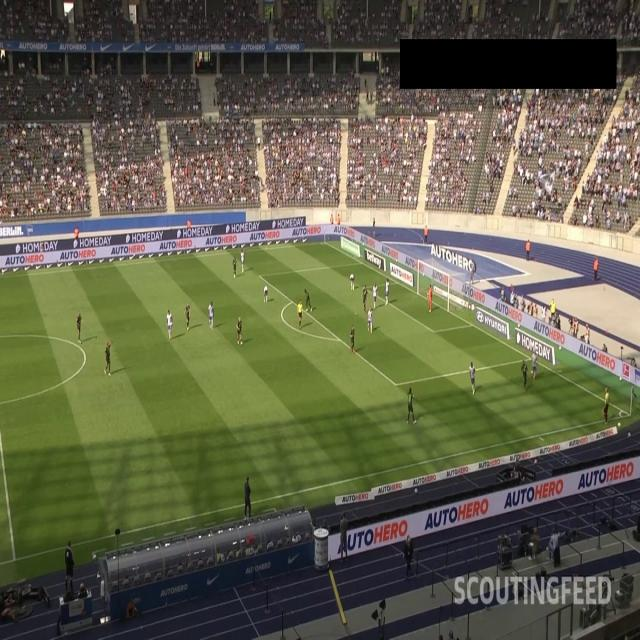player: (408, 387, 418, 423), (236, 311, 245, 345), (164, 311, 174, 339), (469, 360, 476, 396), (382, 274, 390, 305), (349, 326, 358, 353), (303, 286, 312, 311), (184, 302, 191, 332), (522, 357, 528, 390), (76, 311, 82, 343), (104, 343, 110, 375), (207, 301, 213, 329), (532, 353, 538, 381), (372, 281, 378, 307), (427, 282, 432, 311), (348, 272, 356, 290), (263, 282, 270, 302), (362, 285, 367, 310), (240, 251, 246, 271), (232, 257, 237, 277), (368, 308, 372, 333)
